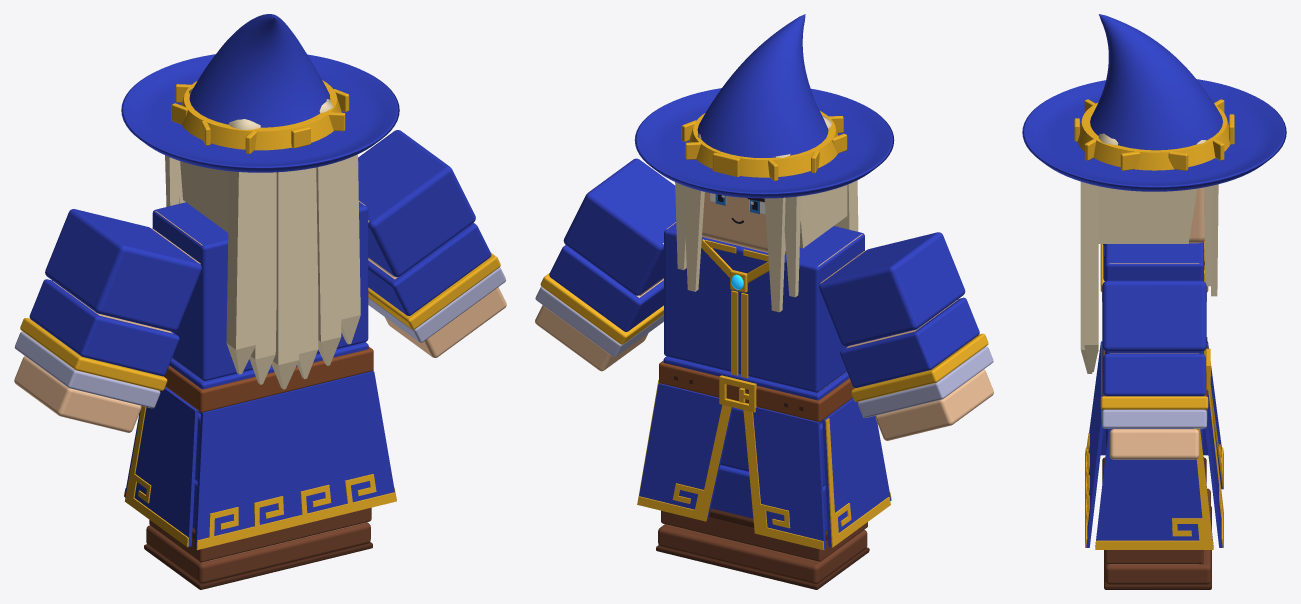
File: arcanist_female.glb
3 renders of one model, left to right at view 1: azimuth 30°, elevation 25°; view 2: azimuth 150°, elevation 25°; view 3: azimuth 270°, elevation 25°, orthographic. The views are drawn at different scales.
Parts seen in each view (by area): view 1: RobeSkirt, Hair, Hat, LeftUpperArm, LeftLowerArm, RightUpperArm, UpperTorso, RightLowerArm, LowerTorso, LeftFoot, LeftHand, RightFoot (+3 smaller); view 2: Hat, RobeSkirt, UpperTorso, LeftUpperArm, LeftLowerArm, RightUpperArm, Hair, RightLowerArm, LowerTorso, LeftFoot, LeftHand, Head (+6 smaller); view 3: Hat, RobeSkirt, Hair, RightLowerArm, RightUpperArm, UpperTorso, RightFoot, RightHand, RightLowerLeg, Head, LowerTorso.
Boxes of the visible parts, x1,y1,x2,y2 form: RobeSkirt: (124,370,396,549); Hair: (165,88,360,389); Hat: (121,14,399,172); LeftUpperArm: (45,209,201,331); LeftLowerArm: (14,279,179,408); RightUpperArm: (358,130,475,277); UpperTorso: (152,201,368,380); RightLowerArm: (368,222,505,342); LowerTorso: (163,342,373,414); LeftFoot: (144,525,290,589); LeftHand: (14,356,141,432); RightFoot: (283,522,372,569); Hat: (634,14,894,198); RobeSkirt: (637,379,891,550); UpperTorso: (664,222,864,392); LeftUpperArm: (819,232,965,346); LeftLowerArm: (840,297,993,417); RightUpperArm: (563,158,676,295); Hair: (675,116,858,312); RightLowerArm: (535,245,663,356); LowerTorso: (659,356,854,423); LeftFoot: (733,530,869,589); LeftHand: (875,369,993,440); Head: (702,192,786,254); Hat: (1022,14,1286,191); RobeSkirt: (1085,341,1223,549); Hair: (1080,133,1218,373); RightLowerArm: (1100,353,1208,428); RightUpperArm: (1102,280,1206,351); UpperTorso: (1105,241,1205,357); RightFoot: (1104,550,1211,589); RightHand: (1109,429,1199,459); RightLowerLeg: (1105,550,1203,564); Head: (1189,187,1204,243); LowerTorso: (1102,337,1210,410).
Bounding box in the file's own units: 5.47 × 6.5 × 2.94.
